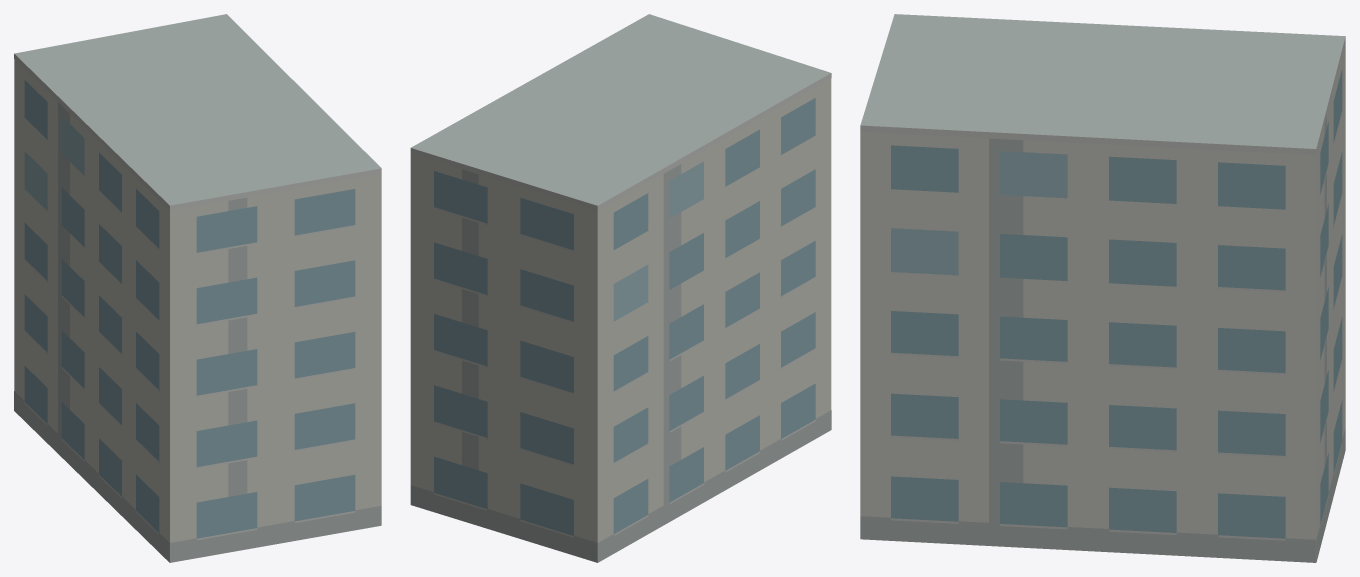
Rendered from survey-upis-32830816.glb.
3 renders of one model, left to right at view 1: azimuth 30°, elevation 25°; view 2: azimuth 150°, elevation 25°; view 3: azimuth 270°, elevation 25°, orthographic. The views are drawn at different scales.
Parts seen in each view (by area): view 1: survey-upis-32830816.tmp; view 2: survey-upis-32830816.tmp; view 3: survey-upis-32830816.tmp.
Boxes of the visible parts, box(x1,y1,x2,y2) form: survey-upis-32830816.tmp: box(14, 14, 381, 562); survey-upis-32830816.tmp: box(410, 14, 831, 562); survey-upis-32830816.tmp: box(860, 14, 1345, 562).
Bounding box in the file's own units: 11.14 × 15.9 × 16.91.
